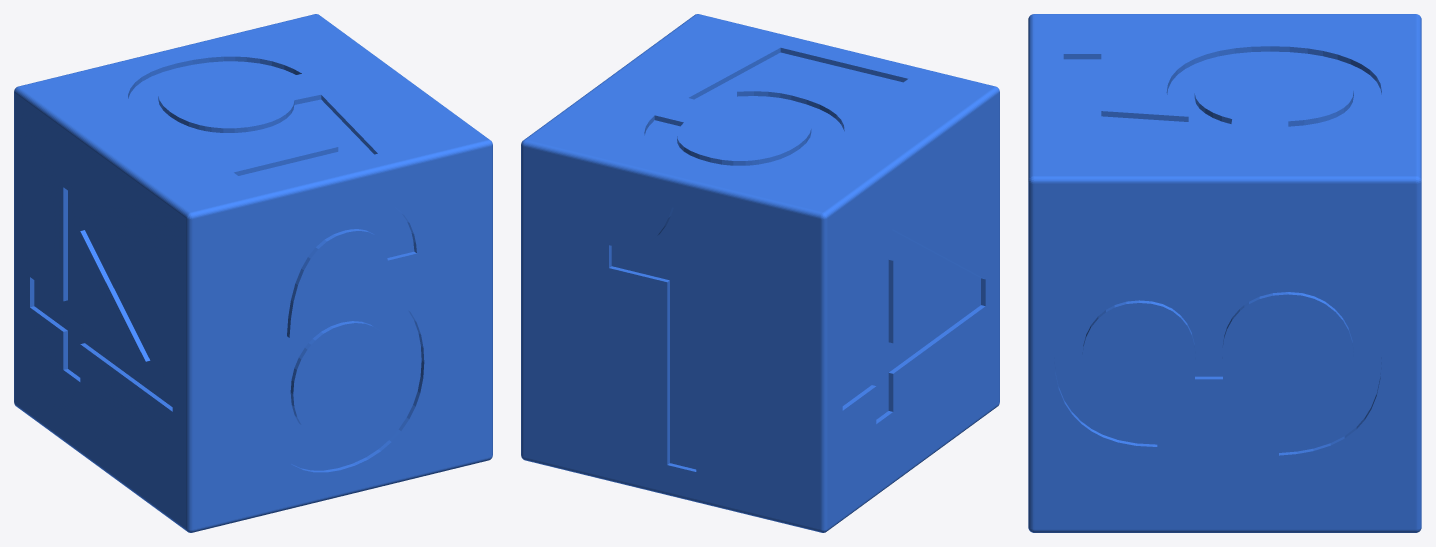
3 views of the same model, side by side, from view 1: azimuth 30°, elevation 25°; view 2: azimuth 150°, elevation 25°; view 3: azimuth 270°, elevation 25° (orthographic). The views are drawn at different scales.
Bounding box in the file's own units: 20 × 20 × 20.
